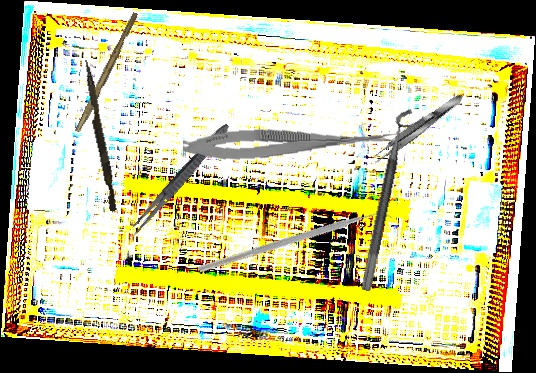Chopper: (197, 142, 397, 348)
Dressing Forceps: (127, 120, 233, 239)
Fixation Ring: (359, 106, 426, 295)
Micro Scissor: (182, 118, 398, 165)
Pusher: (78, 59, 121, 212)
Scalpel Handle: (75, 10, 139, 135)
Tissue Forceps: (369, 90, 467, 167)
